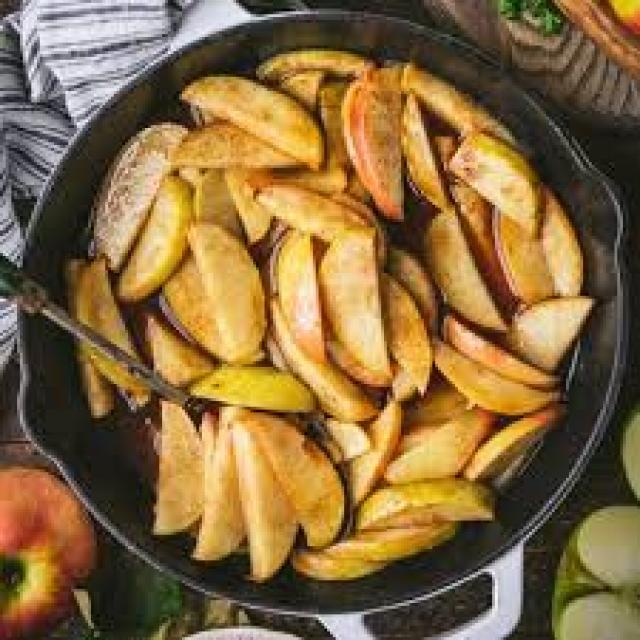Apple: (175, 67, 328, 170), (254, 416, 354, 550), (184, 221, 274, 364), (326, 223, 398, 390), (116, 155, 197, 296), (231, 425, 295, 593), (425, 202, 503, 334), (449, 134, 545, 238), (72, 273, 144, 407), (350, 63, 412, 217), (407, 64, 510, 151), (451, 320, 562, 396), (429, 360, 543, 430), (276, 231, 334, 361), (151, 402, 204, 539), (183, 363, 313, 418), (368, 418, 490, 476), (355, 474, 496, 524), (512, 280, 588, 364), (198, 411, 239, 560), (542, 194, 586, 308), (503, 210, 554, 308), (298, 540, 391, 592), (166, 130, 293, 168), (315, 529, 470, 559), (478, 413, 557, 468), (255, 48, 371, 81)
